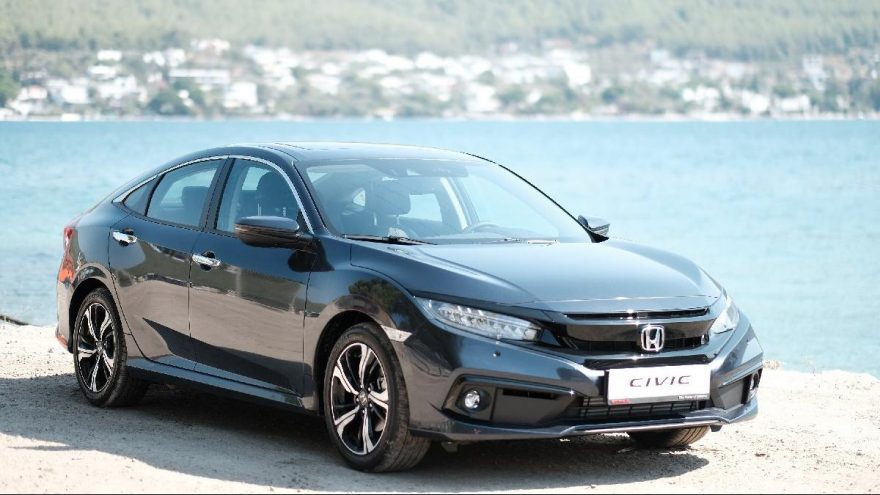araba: (55, 142, 765, 471)
